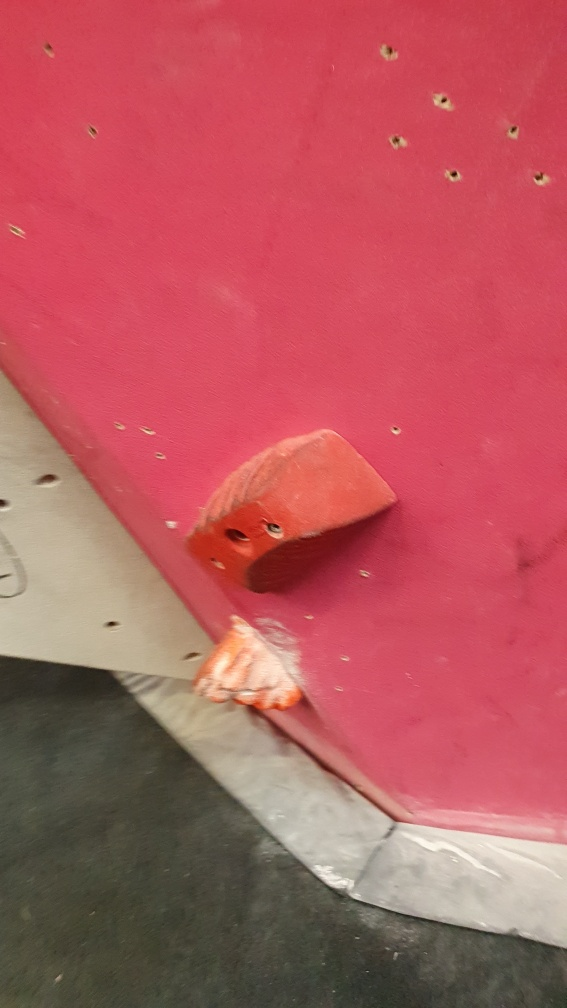Crimp: (179, 422, 401, 603)
Jug: (190, 615, 308, 718)
